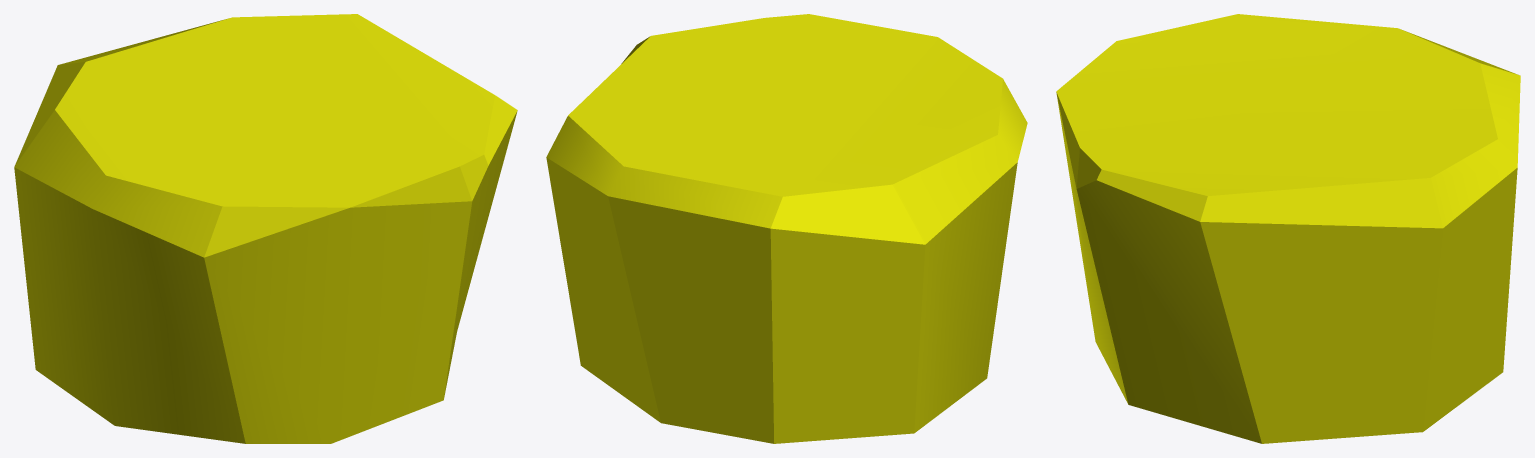
3 views of the same model, side by side, from view 1: azimuth 30°, elevation 25°; view 2: azimuth 150°, elevation 25°; view 3: azimuth 270°, elevation 25° (orthographic). The views are drawn at different scales.
Parts seen in each view (by area): view 1: stone_001; view 2: stone_001; view 3: stone_001.
Boxes of the visible parts, x1=… form: stone_001: x1=14, y1=14, x2=517, y2=443; stone_001: x1=546, y1=14, x2=1027, y2=443; stone_001: x1=1056, y1=14, x2=1520, y2=443.
Size of the model in its own units: 3.2 by 1.94 by 3.15.
Materials: 1 (1 with a texture image).
